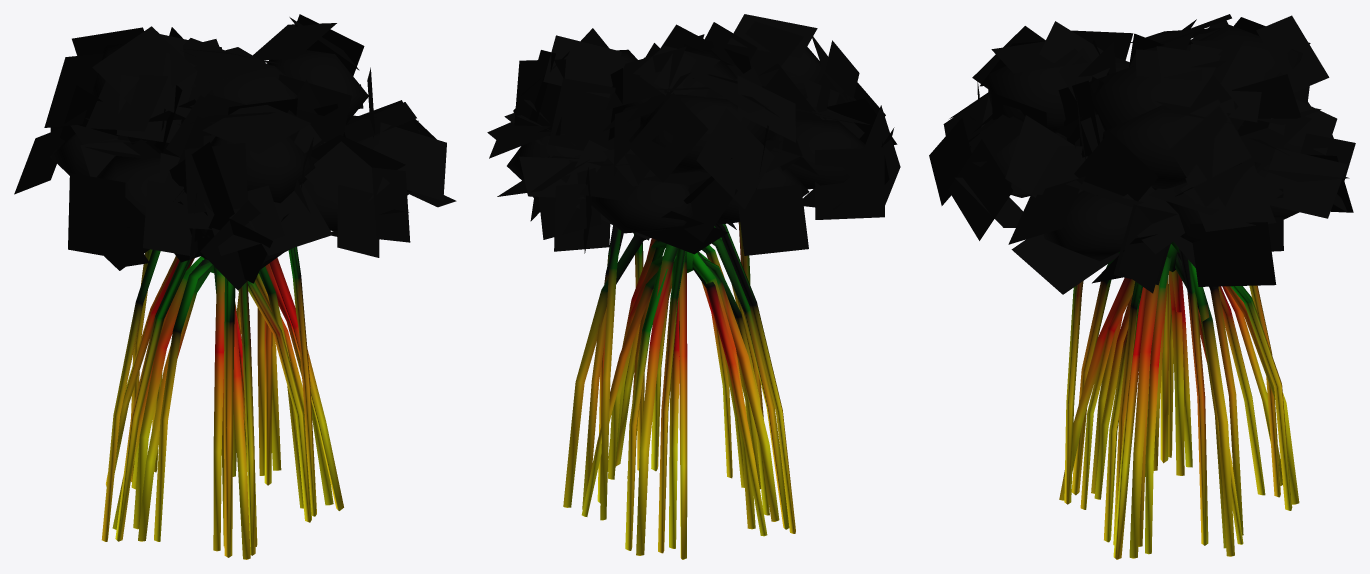
Rendered from mangrove_b_lo.glb.
3 views of the same model, side by side, from view 1: azimuth 30°, elevation 25°; view 2: azimuth 150°, elevation 25°; view 3: azimuth 270°, elevation 25° (orthographic). The views are drawn at different scales.
Visible parts, largest first — view 1: mangrove_b_lo; view 2: mangrove_b_lo; view 3: mangrove_b_lo.
Part boxes in pixels (x1,y1,x2,y2): mangrove_b_lo: (14,14,456,559); mangrove_b_lo: (487,14,900,559); mangrove_b_lo: (929,14,1355,559).
Size of the model in its own units: 6.9 by 8.23 by 6.67.
